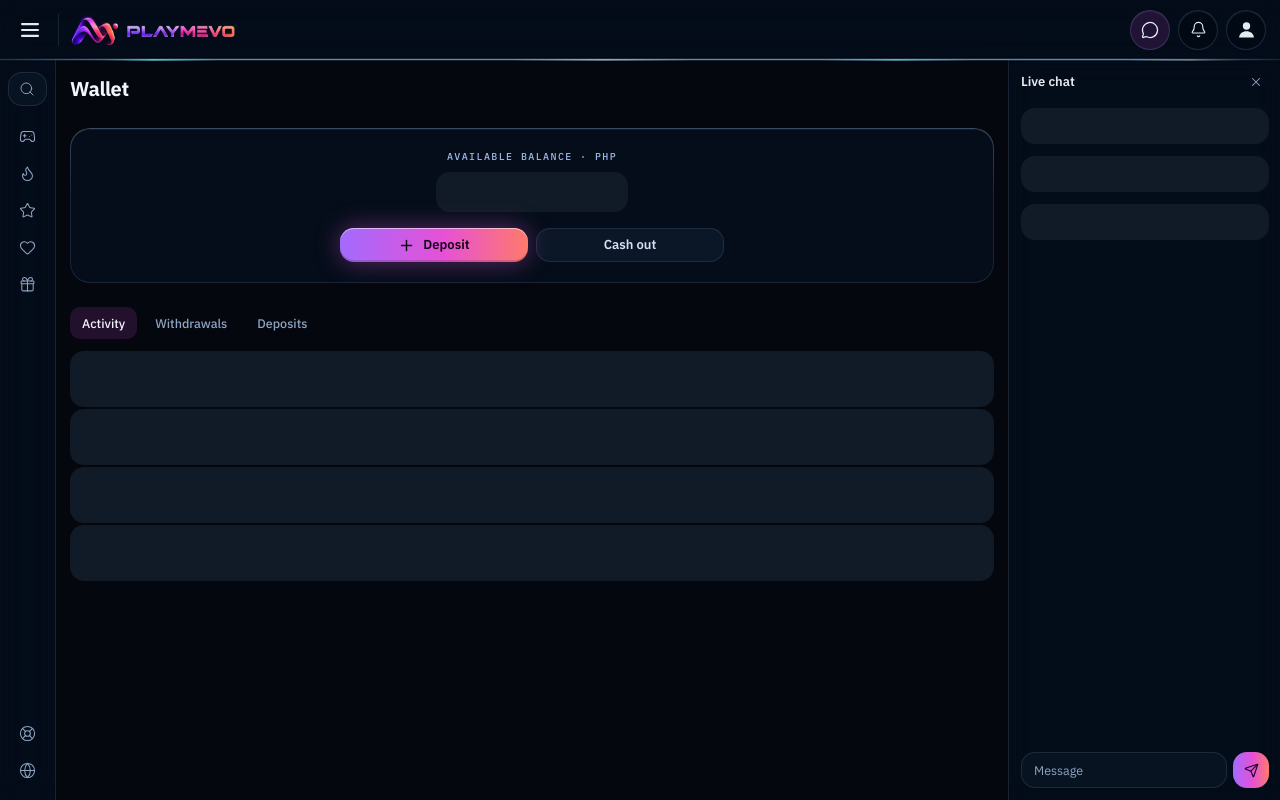
Test: the wallet page › offers deposit and cash out under the balance
expect the link "Deposit" is shown: met, box [340, 228, 528, 262]
Click the link "Cash out" at (630, 245), box [536, 228, 724, 262]
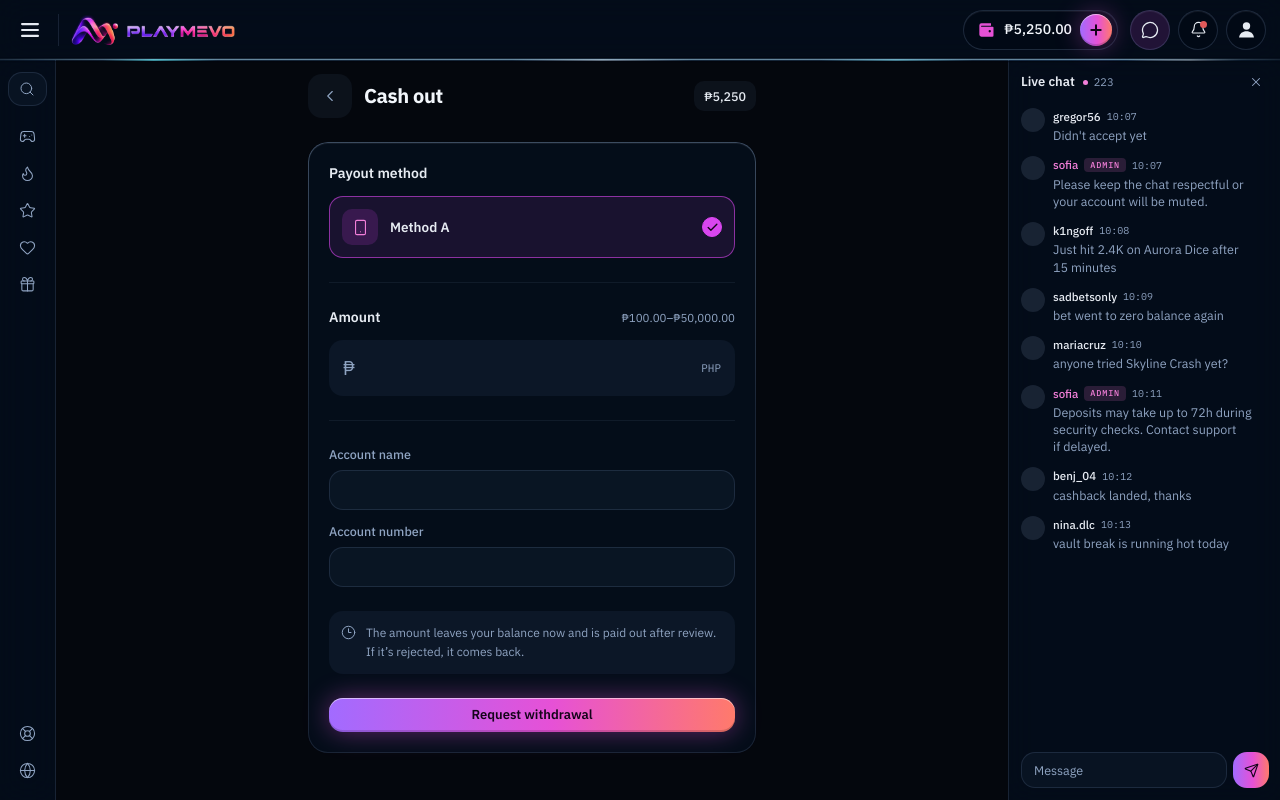
expect the heading "Cash out" is shown: met, box [364, 81, 443, 111]
expect the field labelled "Account number" is shown: met, box [329, 546, 735, 586]
expect the button "Request withdrawal" is shown: met, box [329, 698, 735, 732]
